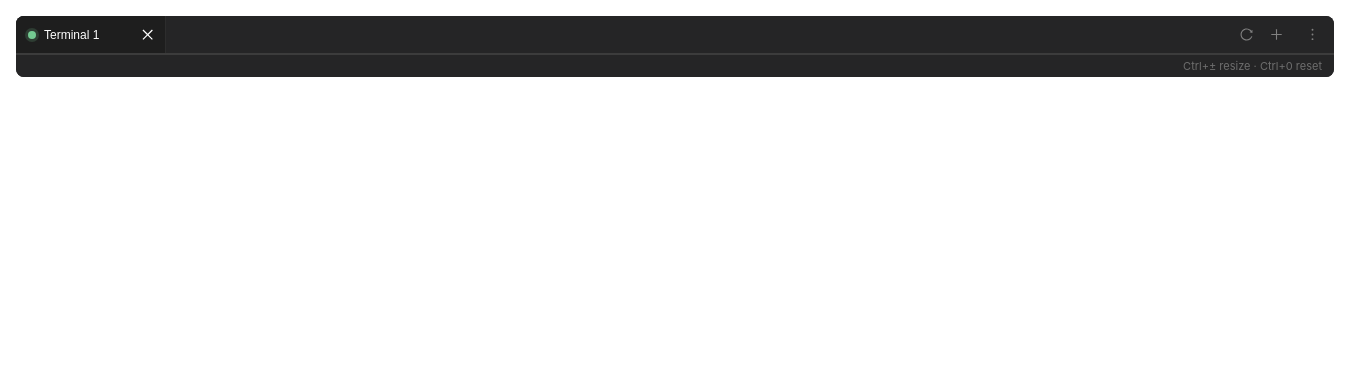
Scenario: default shell preference › keeps the detected shell selectable after another one is remembered
Click the button with class "firewood-terminal-menu-trigger". click: (1312,34)
box: [1298,20,1326,48]
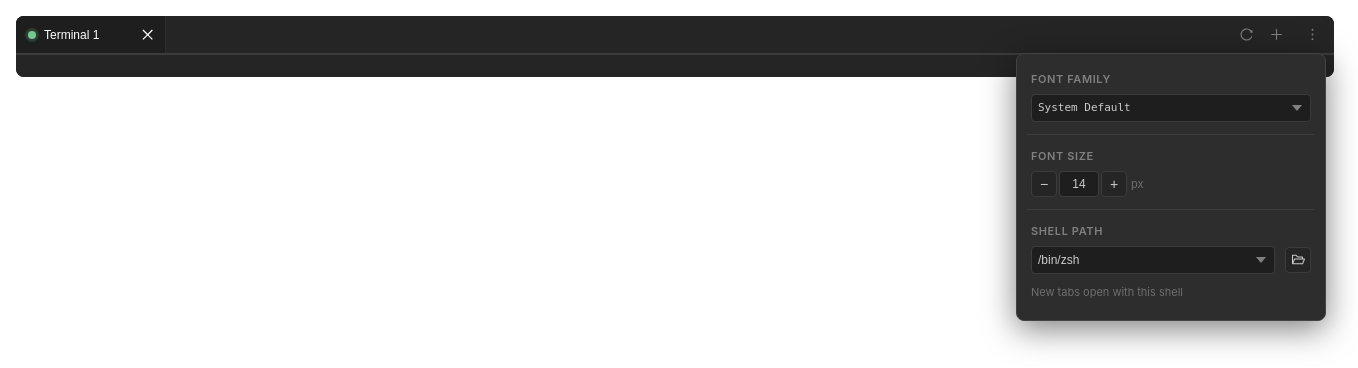
Expected: the dropdown with class "firewood-terminal-menu-select" below "Shell path" is shown, [1031,246,1275,274]
